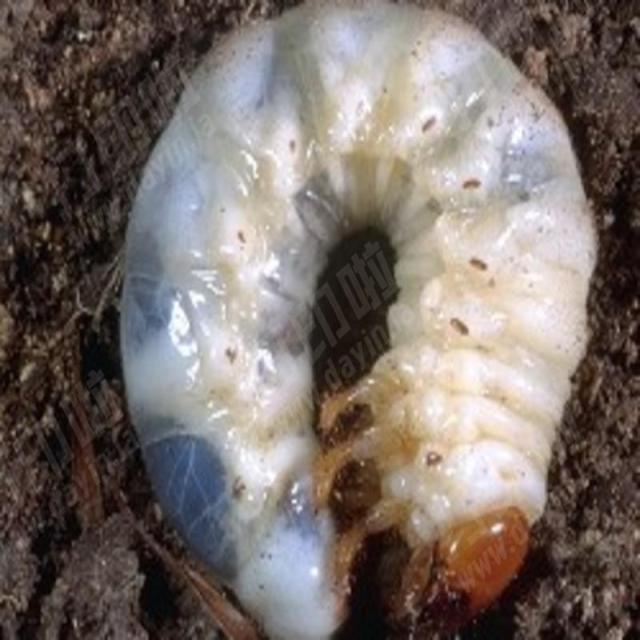Grub-Adult-: (91, 6, 600, 624)
